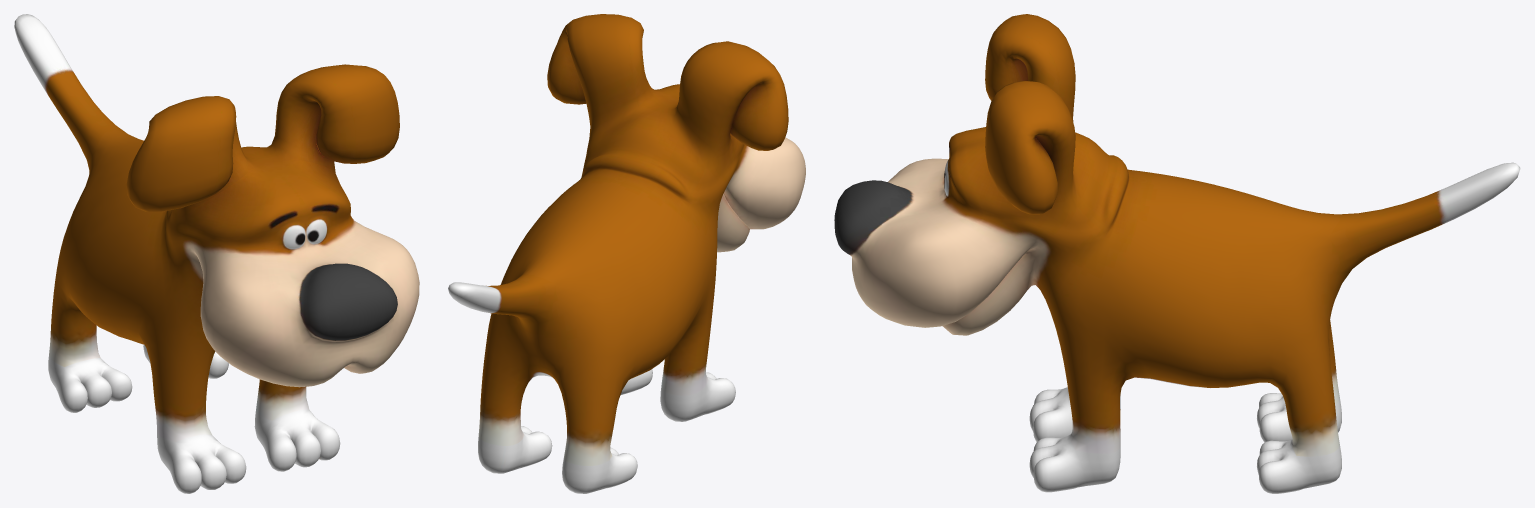
Rendered from cartoon-dog.glb.
The picture shows the model from 3 angles, left to right: view 1: azimuth 30°, elevation 25°; view 2: azimuth 150°, elevation 25°; view 3: azimuth 270°, elevation 25°; orthographic projection. The views are drawn at different scales.
Parts seen in each view (by area): view 1: CartoonDog_Dog_0; view 2: CartoonDog_Dog_0; view 3: CartoonDog_Dog_0.
Part boxes in pixels (<box>): CartoonDog_Dog_0: <box>14,14,419,493</box>; CartoonDog_Dog_0: <box>448,14,805,493</box>; CartoonDog_Dog_0: <box>834,14,1520,493</box>.
Bounding box in the file's own units: 2.84 × 4.07 × 6.29.
1 material, 1 textured.
